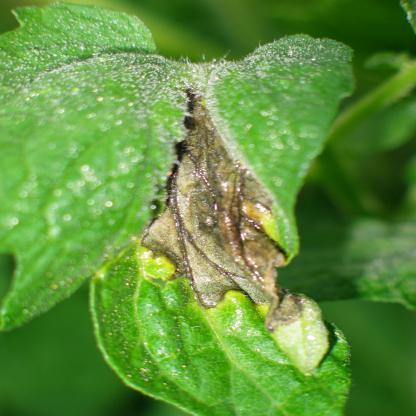tomato leaf late blight: (7, 15, 371, 406)
